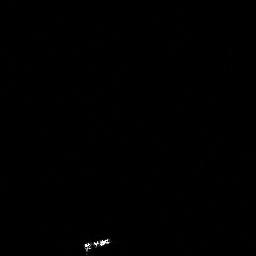ship: (80, 234, 114, 254)
